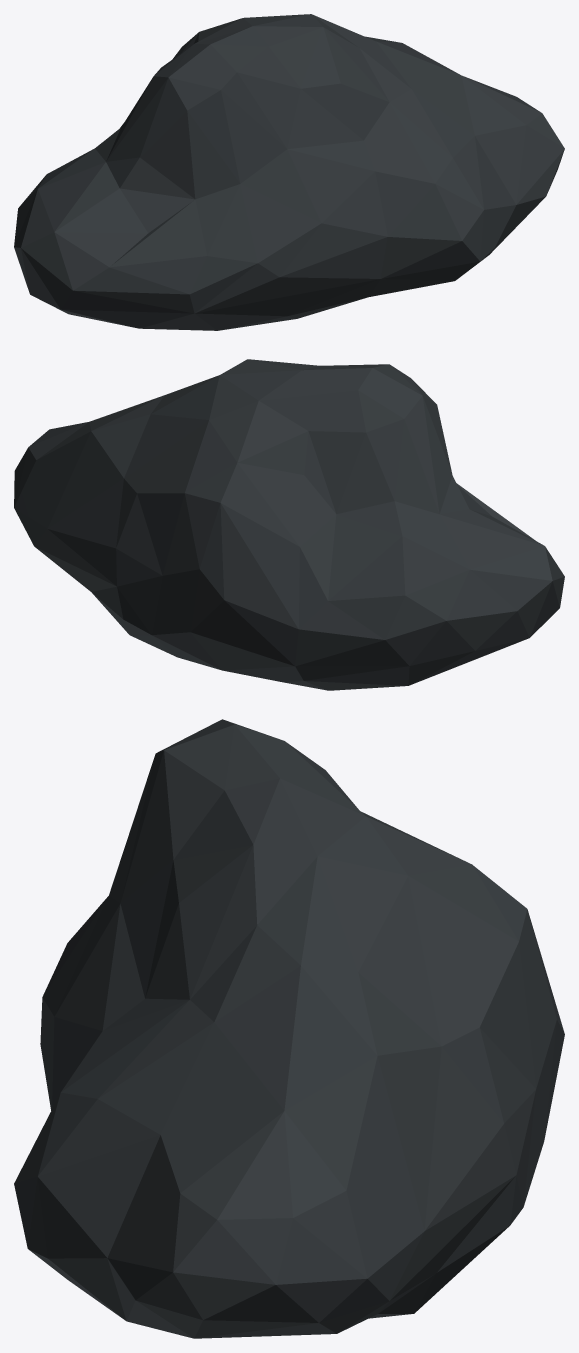
File: Cloud_02.fbx
3 renders of one model, top to bottom at view 1: azimuth 30°, elevation 25°; view 2: azimuth 150°, elevation 25°; view 3: azimuth 270°, elevation 25°, orthographic. The views are drawn at different scales.
Visible parts, largest first — view 1: Cloud_02; view 2: Cloud_02; view 3: Cloud_02.
Boxes of the visible parts, x1,y1,x2,y2 form: Cloud_02: [14, 14, 564, 330]; Cloud_02: [14, 359, 564, 690]; Cloud_02: [14, 719, 564, 1338].
Size of the model in its own units: 4.31 by 2.22 by 2.39.
